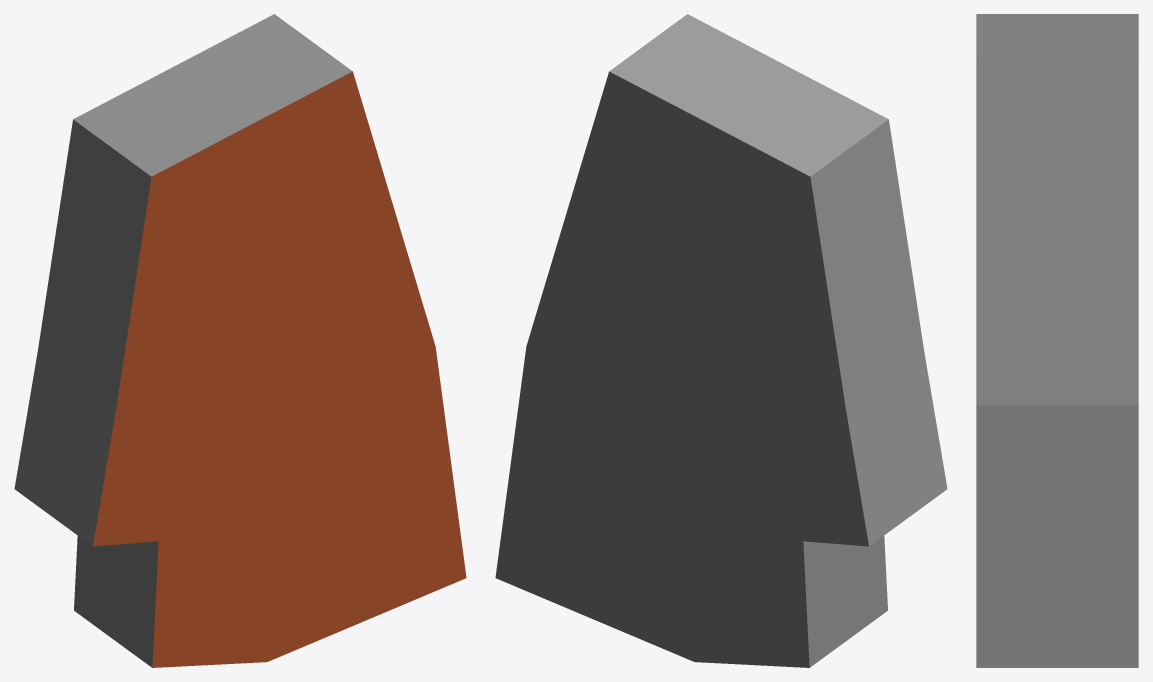
File: construction_3913_assumed_A_Casa_h6m.obj
3 views of the same model, side by side, from view 1: azimuth 30°, elevation 25°; view 2: azimuth 150°, elevation 25°; view 3: azimuth 270°, elevation 25° (orthographic). The views are drawn at different scales.
Parts seen in each view (by area): view 1: construction_3913_assumed_A_Casa; view 2: construction_3913_assumed_A_Casa; view 3: construction_3913_assumed_A_Casa.
Boxes of the visible parts, x1,y1,x2,y2 form: construction_3913_assumed_A_Casa: (14,14,466,667); construction_3913_assumed_A_Casa: (495,14,947,667); construction_3913_assumed_A_Casa: (976,14,1138,667).
Bounding box in the file's own units: 16.5 × 24.05 × 6.
